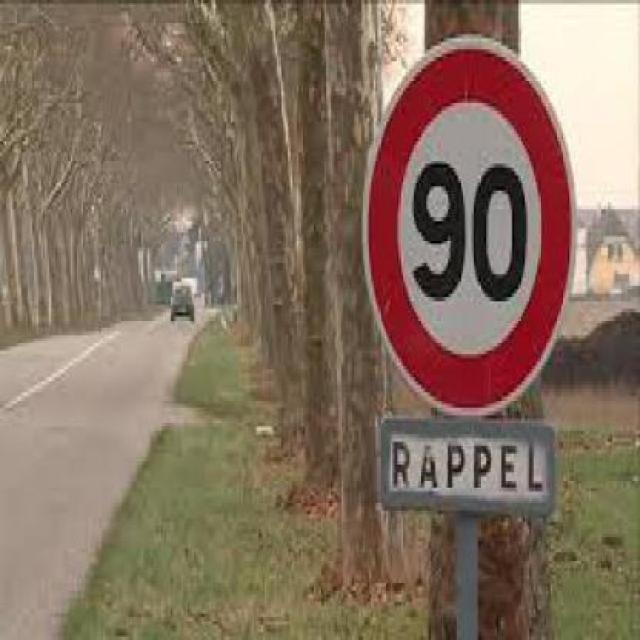speed limit 90: (360, 40, 576, 415)
